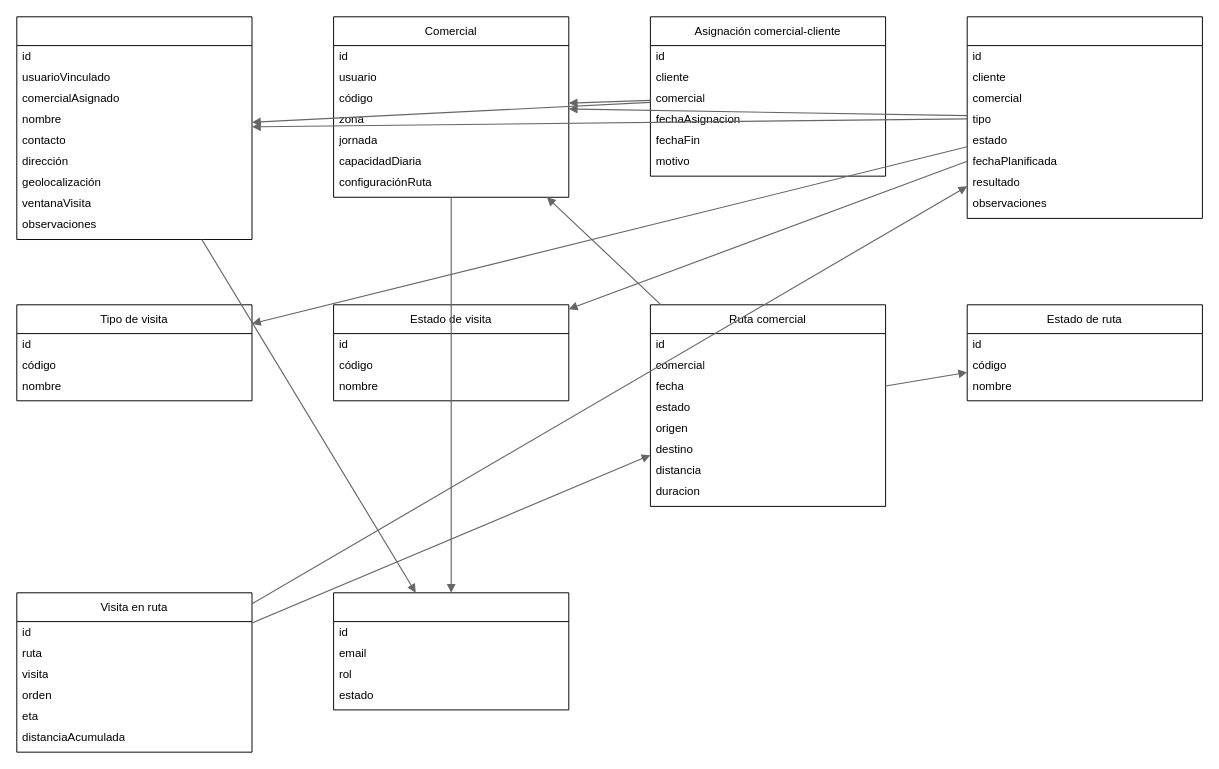
This 1219x769 diagram has some shape labels left out. Here are the shapes that lost their labels. From the top down, the box of each, then its label:
(16, 16, 252, 240): Cliente profesional
(966, 16, 1202, 218): Visita comercial
(333, 592, 569, 710): Usuario (M1)
